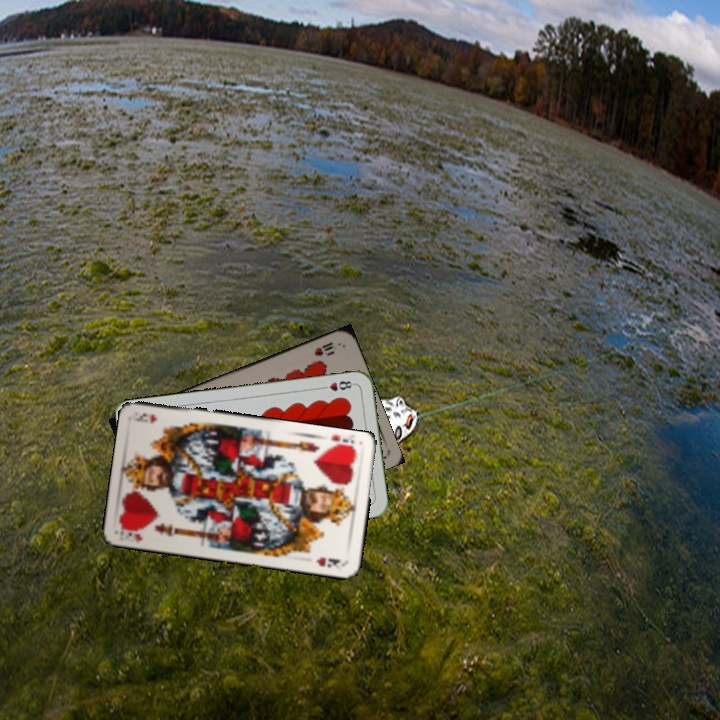H10: (310, 338, 339, 359)
H8: (317, 377, 357, 394)
HK: (322, 431, 358, 454), (116, 522, 146, 545)
